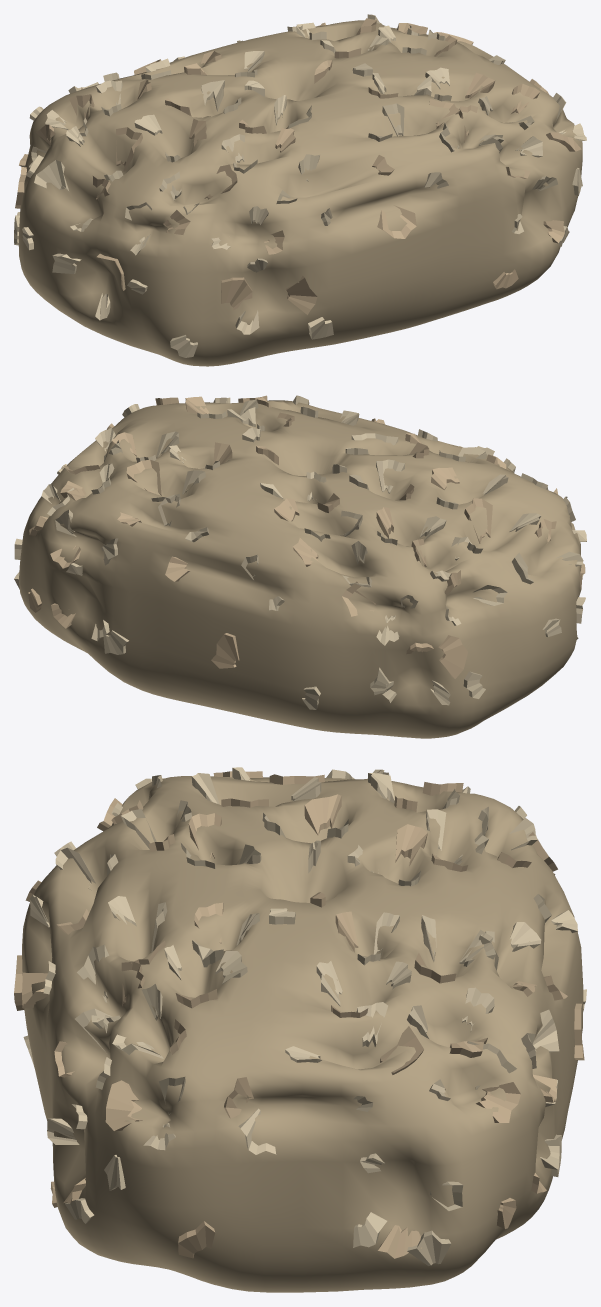
3 renders of one model, top to bottom at view 1: azimuth 30°, elevation 25°; view 2: azimuth 150°, elevation 25°; view 3: azimuth 270°, elevation 25°, orthographic. The views are drawn at different scales.
Visible parts, largest first — view 1: continuous-lithified-porous-shell-rock-matrix, embedded-fractured-shell-ribbons-and-chips; view 2: continuous-lithified-porous-shell-rock-matrix, embedded-fractured-shell-ribbons-and-chips; view 3: continuous-lithified-porous-shell-rock-matrix, embedded-fractured-shell-ribbons-and-chips.
Boxes of the visible parts, x1=… form: continuous-lithified-porous-shell-rock-matrix: x1=18, y1=20, x2=582, y2=366; embedded-fractured-shell-ribbons-and-chips: x1=14, y1=14, x2=586, y2=357; continuous-lithified-porous-shell-rock-matrix: x1=19, y1=400, x2=581, y2=738; embedded-fractured-shell-ribbons-and-chips: x1=14, y1=395, x2=586, y2=709; continuous-lithified-porous-shell-rock-matrix: x1=22, y1=776, x2=583, y2=1292; embedded-fractured-shell-ribbons-and-chips: x1=14, y1=767, x2=586, y2=1265.
Bounding box in the file's own units: 0.8337 × 0.3597 × 0.5819.
